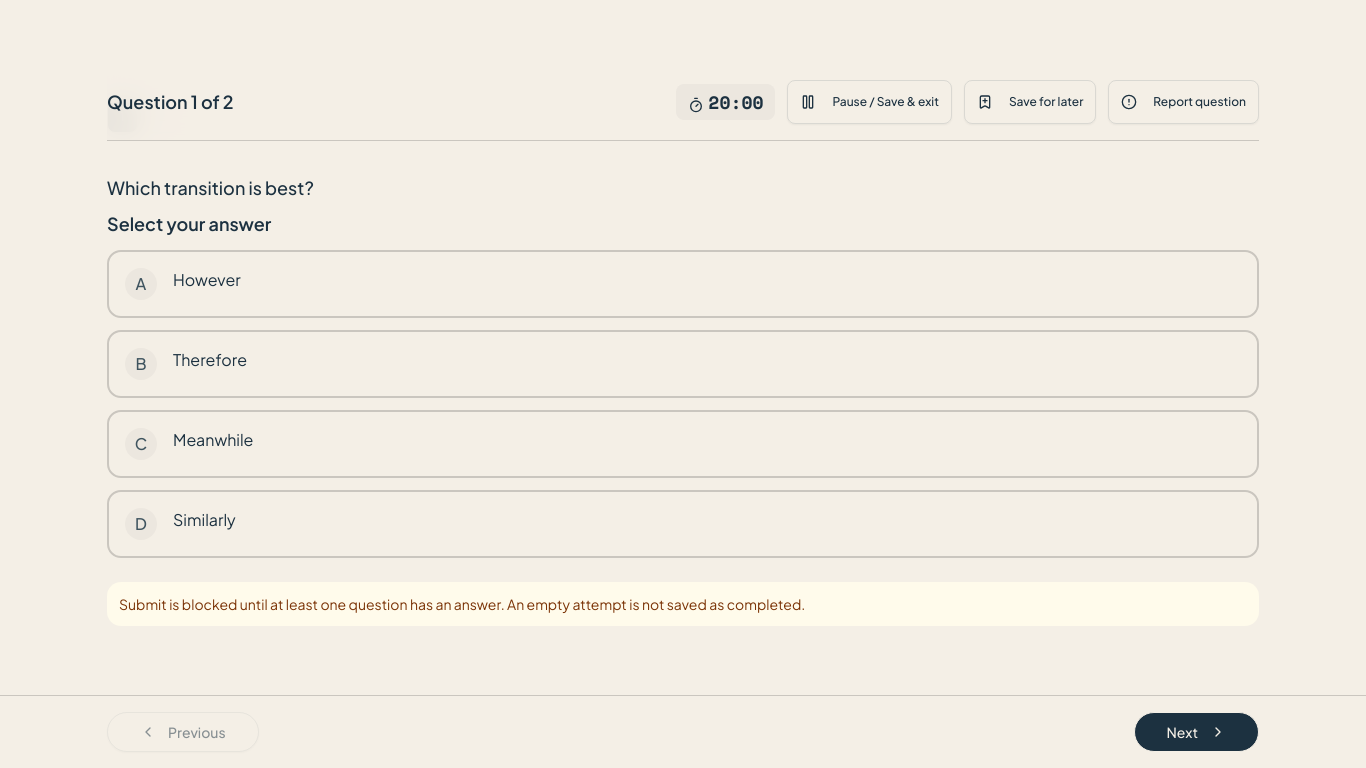
Test case: student attempt UI › Report question sits next to Save for later and can be sent without leaving the quiz
Expected: the button with test id "save-for-later" is shown, 964,80 -> 1096,124
Click the button with test id "report-question" at x=1184, y=102, box 1108,80 -> 1259,124
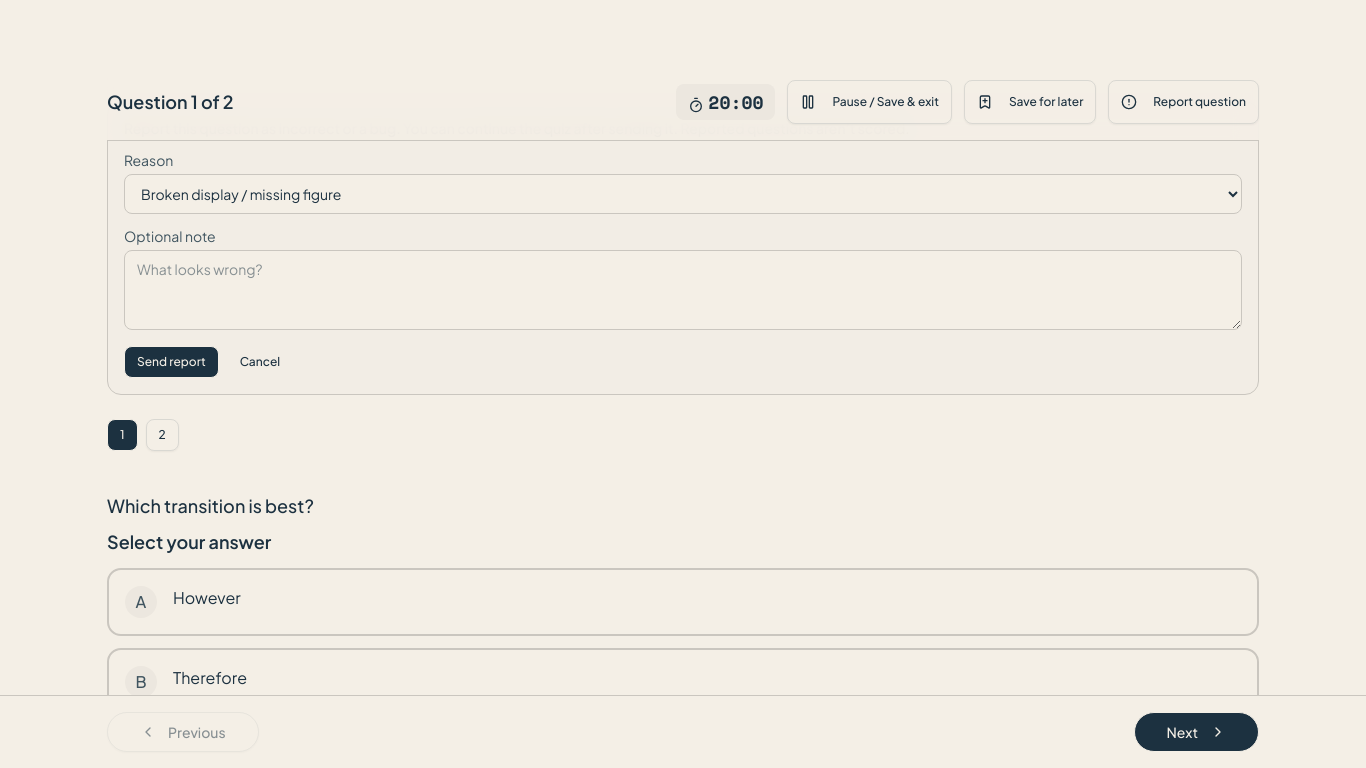
Result: the form with test id "report-question-form" is shown at 107,101 -> 1259,395
Type "Table is smashed" into the text box with placeholder "What looks wrong?" at x=683, y=290, box 124,250 -> 1242,330
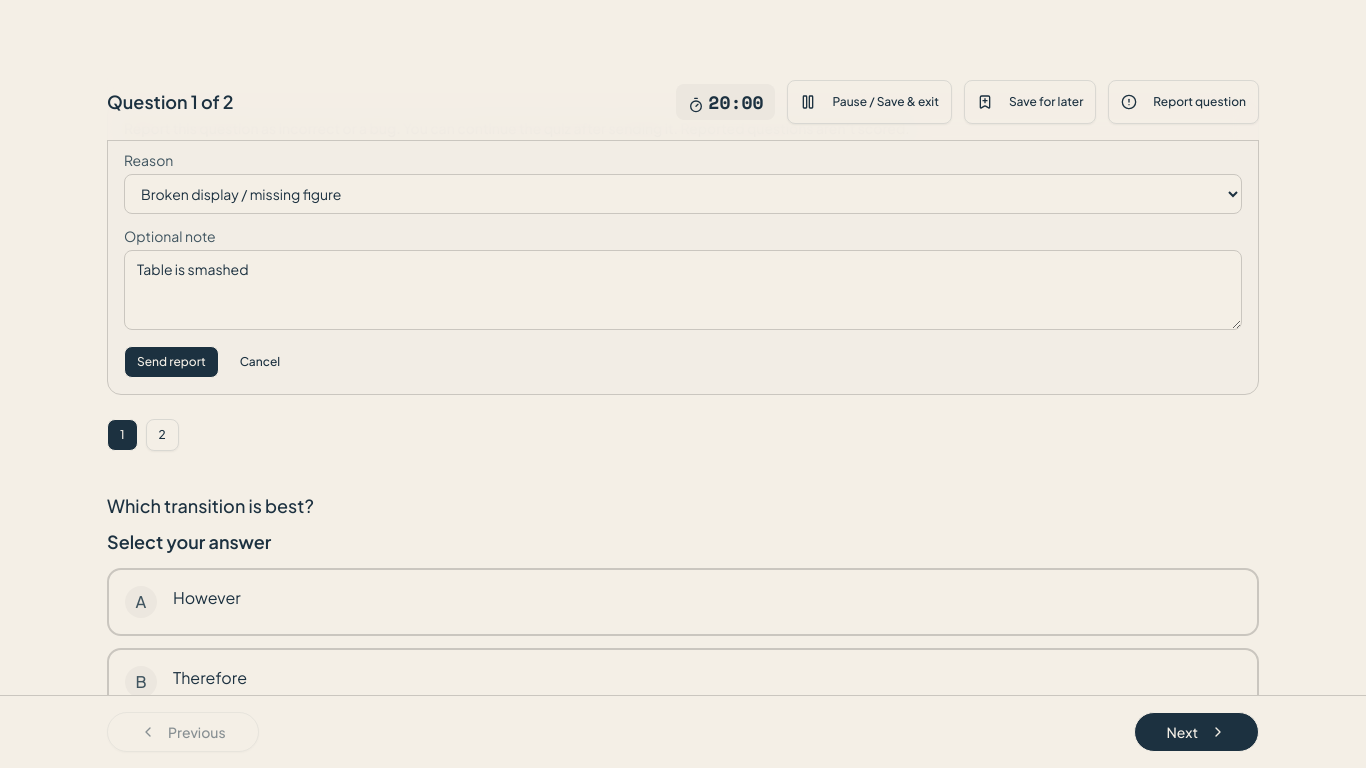
Click the button "Send report" at x=171, y=362, box 124,346 -> 219,378
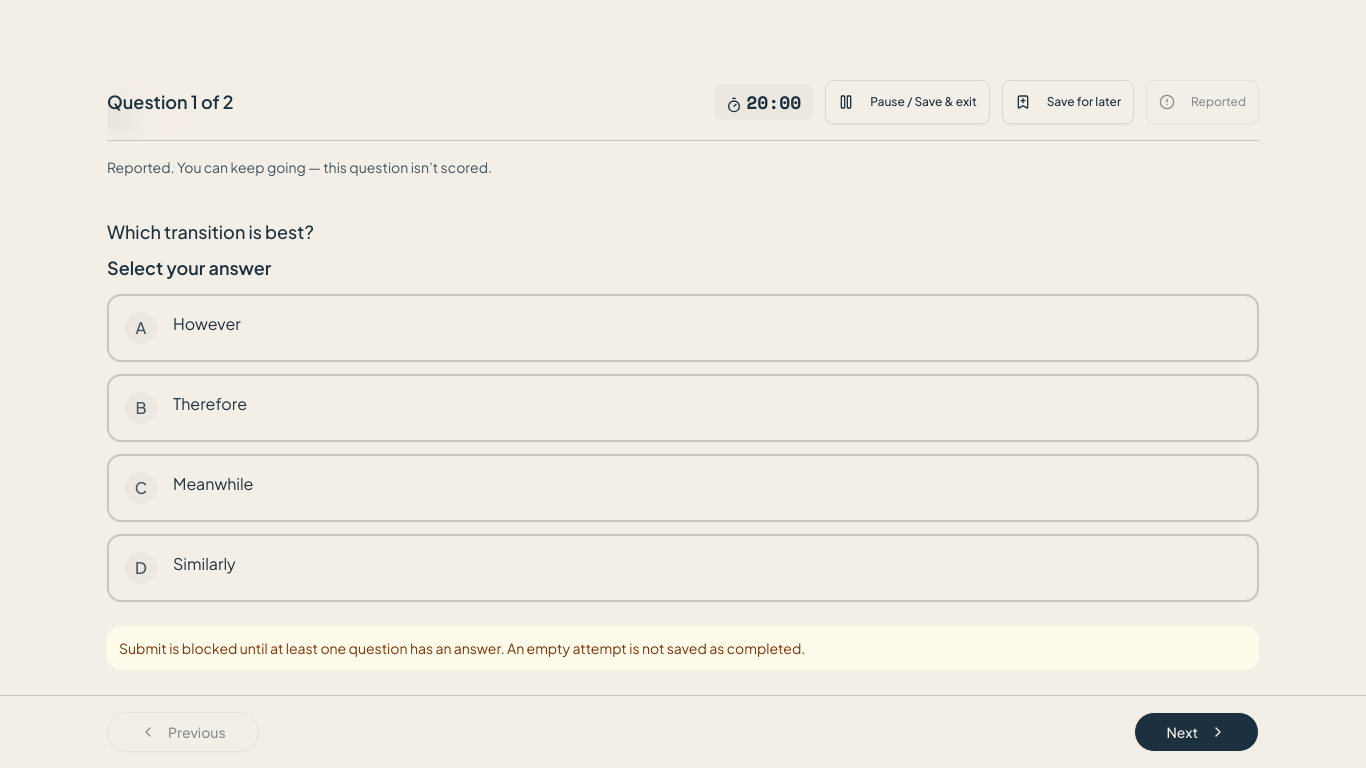
Expected: the text "Which transition is best?" is shown, 107,220 -> 314,243
Result: the text with test id "report-question-status" shows "isn’t scored" at 107,158 -> 492,176
Result: the button with test id "report-question" reads "Reported" at 1146,80 -> 1259,124
